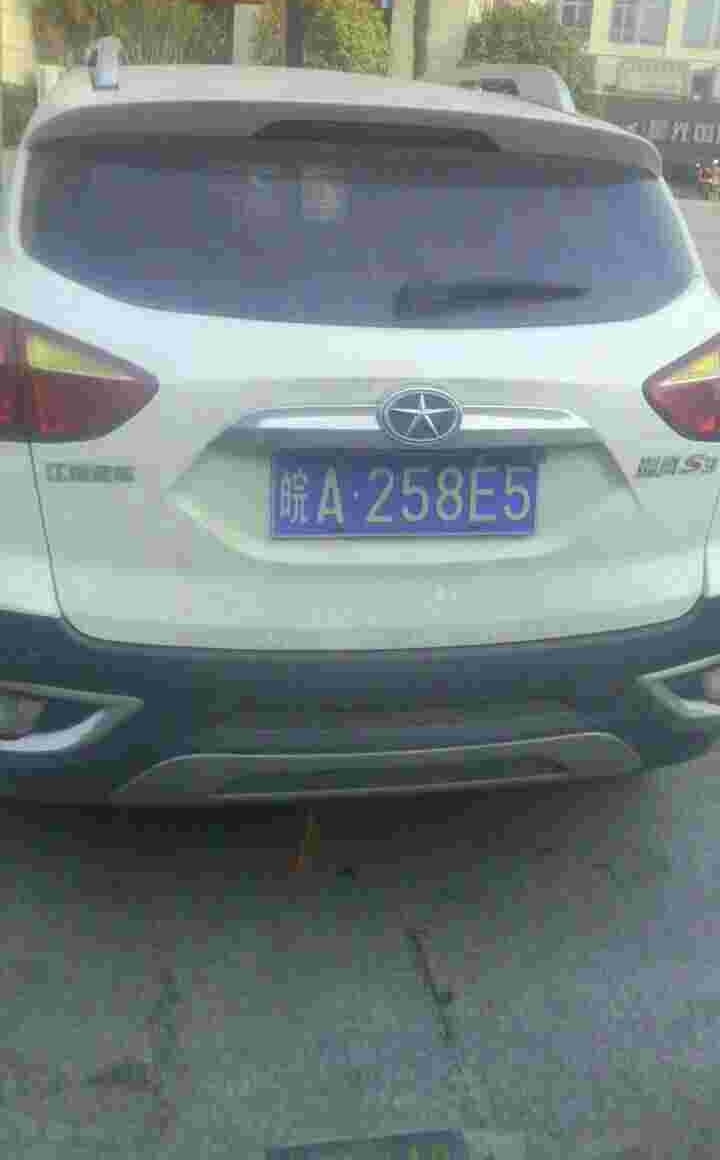plate: (276, 451, 547, 539)
